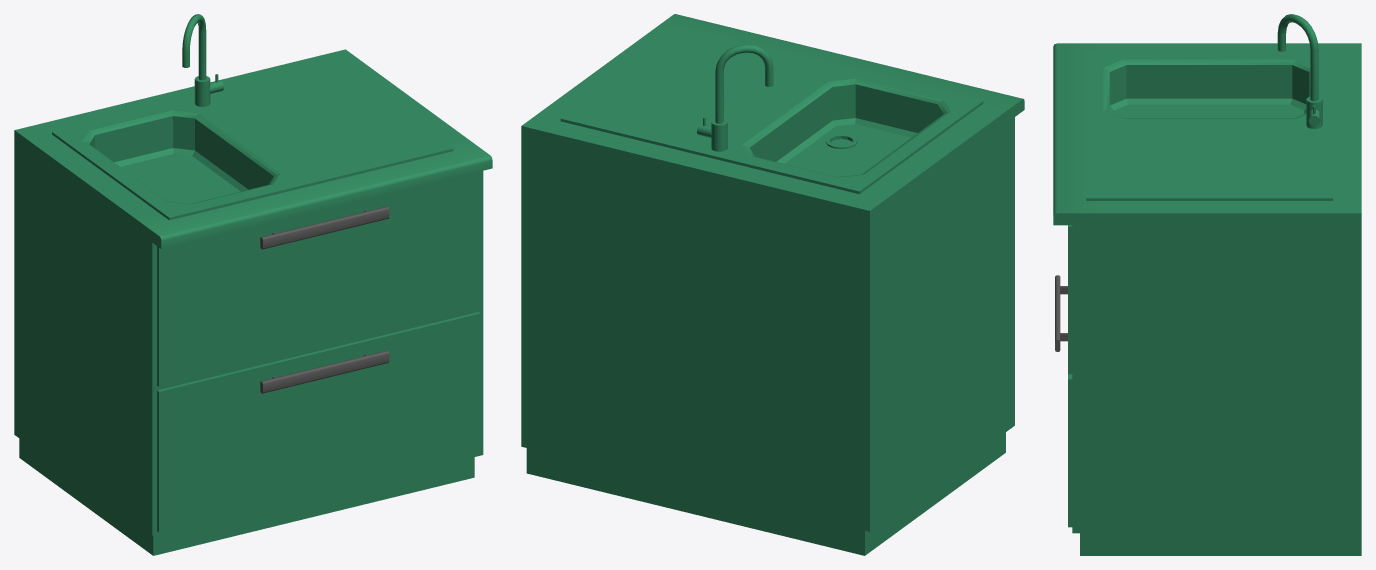
The model's file is mcp_kitchen_cupboard_table_01.FBX.
The picture shows the model from 3 angles, left to right: view 1: azimuth 30°, elevation 25°; view 2: azimuth 150°, elevation 25°; view 3: azimuth 270°, elevation 25°; orthographic projection. The views are drawn at different scales.
Visible parts, largest first — view 1: mcp_kitchen_cupboard_table_01, mcp_kitchen_cupboard_table_01_knobs; view 2: mcp_kitchen_cupboard_table_01; view 3: mcp_kitchen_cupboard_table_01, mcp_kitchen_cupboard_table_01_knobs.
Part boxes in pixels (bbox=[...]): mcp_kitchen_cupboard_table_01: bbox=[14, 14, 492, 555]; mcp_kitchen_cupboard_table_01_knobs: bbox=[260, 206, 389, 393]; mcp_kitchen_cupboard_table_01: bbox=[521, 14, 1024, 555]; mcp_kitchen_cupboard_table_01: bbox=[1053, 14, 1361, 555]; mcp_kitchen_cupboard_table_01_knobs: bbox=[1055, 275, 1067, 351].
Size of the model in its own units: 112 by 138 by 86.
